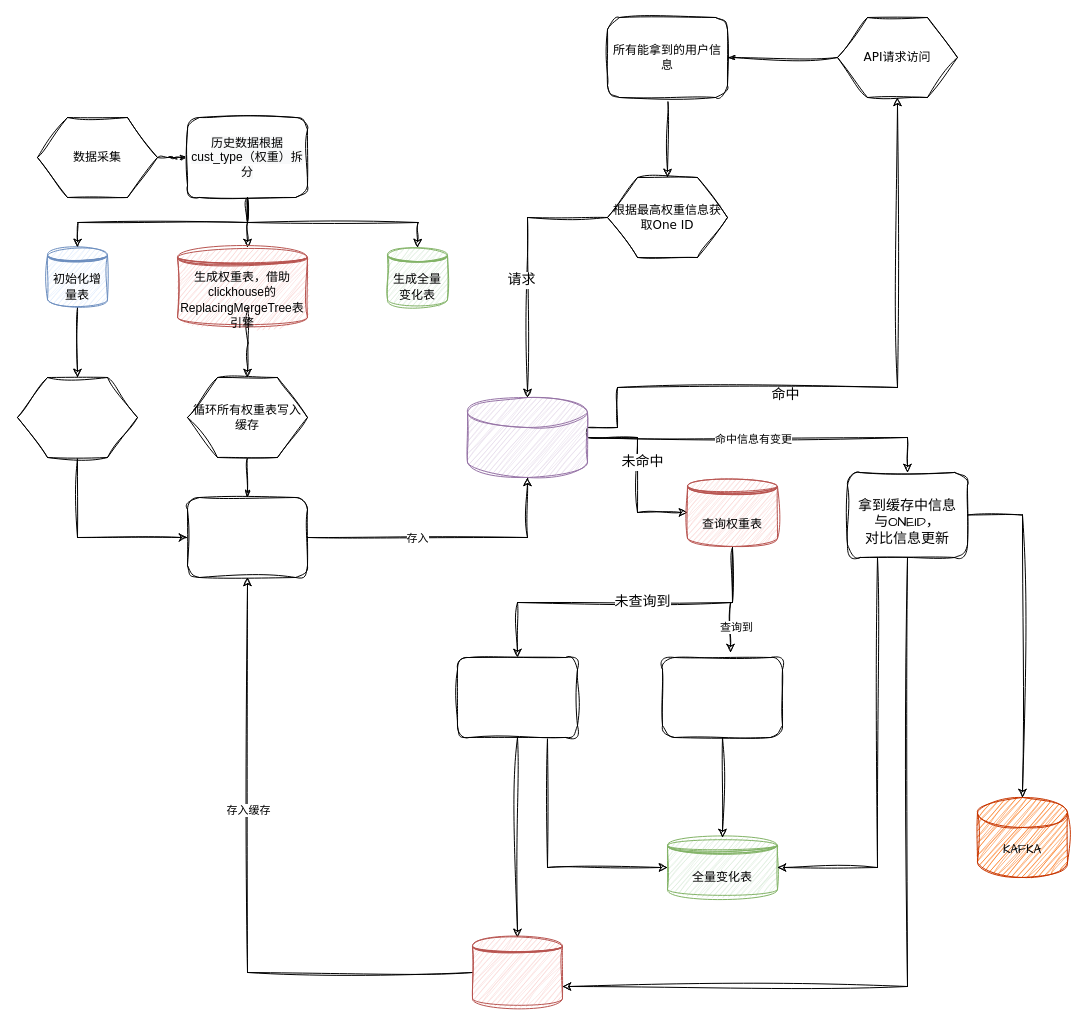
Some shapes in this 1085 by 1025 pixel diagram are drawn without their labels. The shapes that lost their labels are listed below. From the top down, each one's box as (x1, y1, x2, y2) in pixels, then its label:
(16, 376, 138, 458): 每日增量数据
(466, 396, 588, 478): Redis
(186, 496, 308, 578): 生成OneId:权重:IdValue命名的缓存数据
(456, 656, 578, 738): 根据分布式雪花ID 生成OneID
(662, 656, 782, 738): 拿到数据库中信息 与ONEID
(472, 936, 562, 1008): 存入权重表
